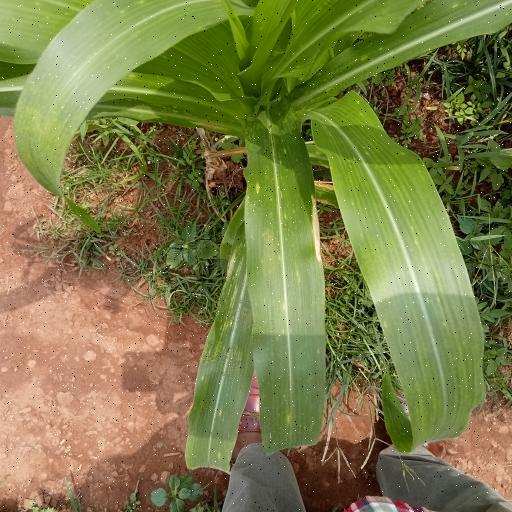Corn_Brown_Spots: (318, 99, 490, 435), (201, 97, 330, 471)
